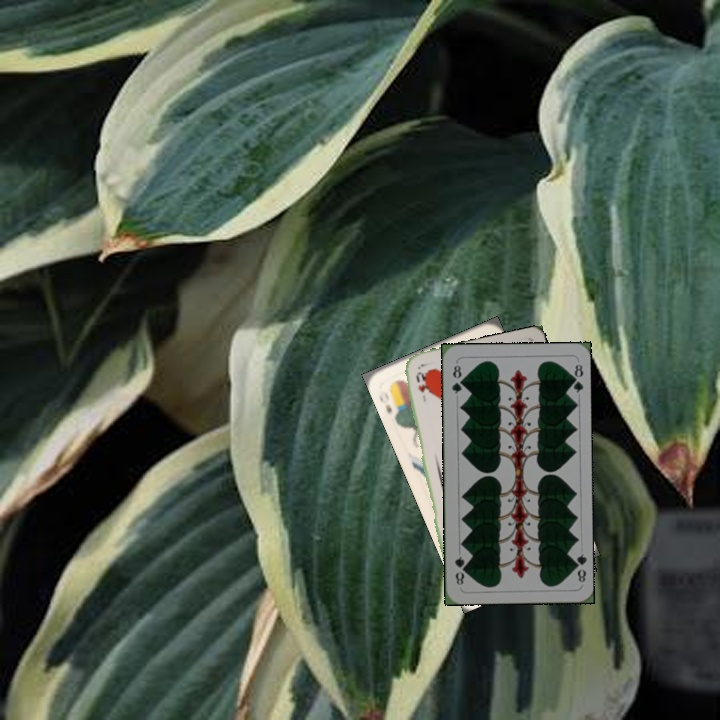EO: (375, 386, 395, 416)
G8: (569, 550, 588, 585), (448, 359, 465, 396)
HO: (412, 368, 429, 404)
